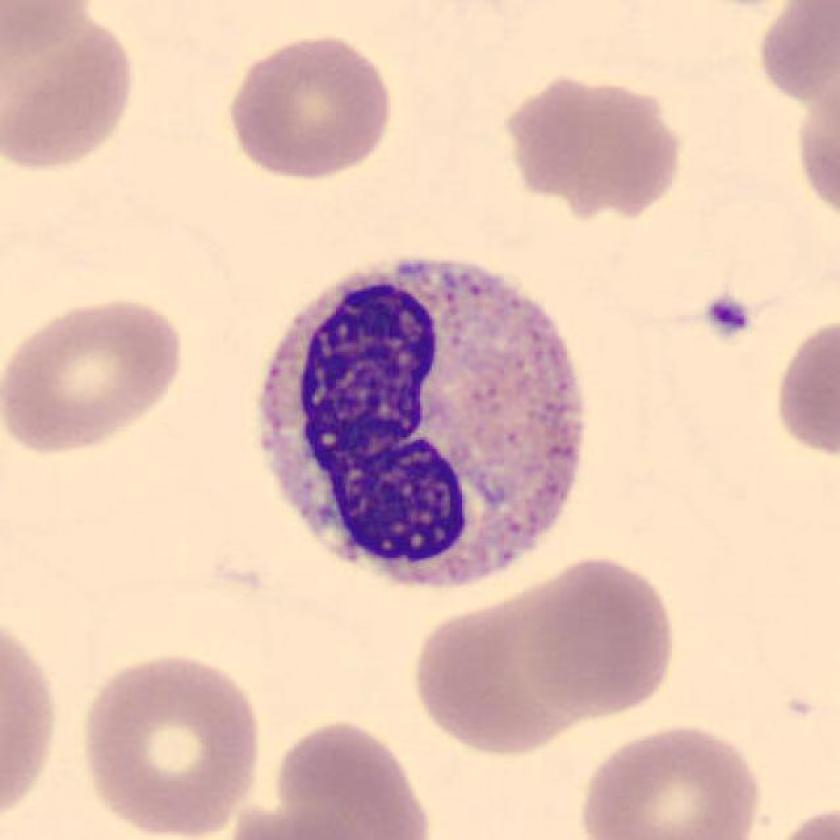neutrophil: (260, 262, 583, 592)
